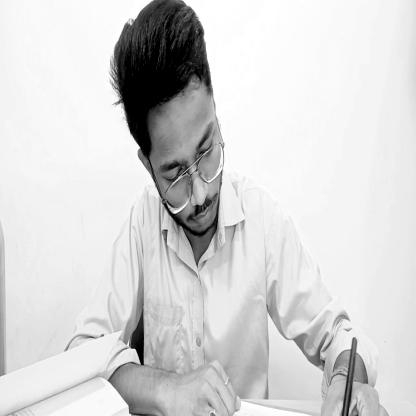Distracted: (112, 4, 226, 248)
